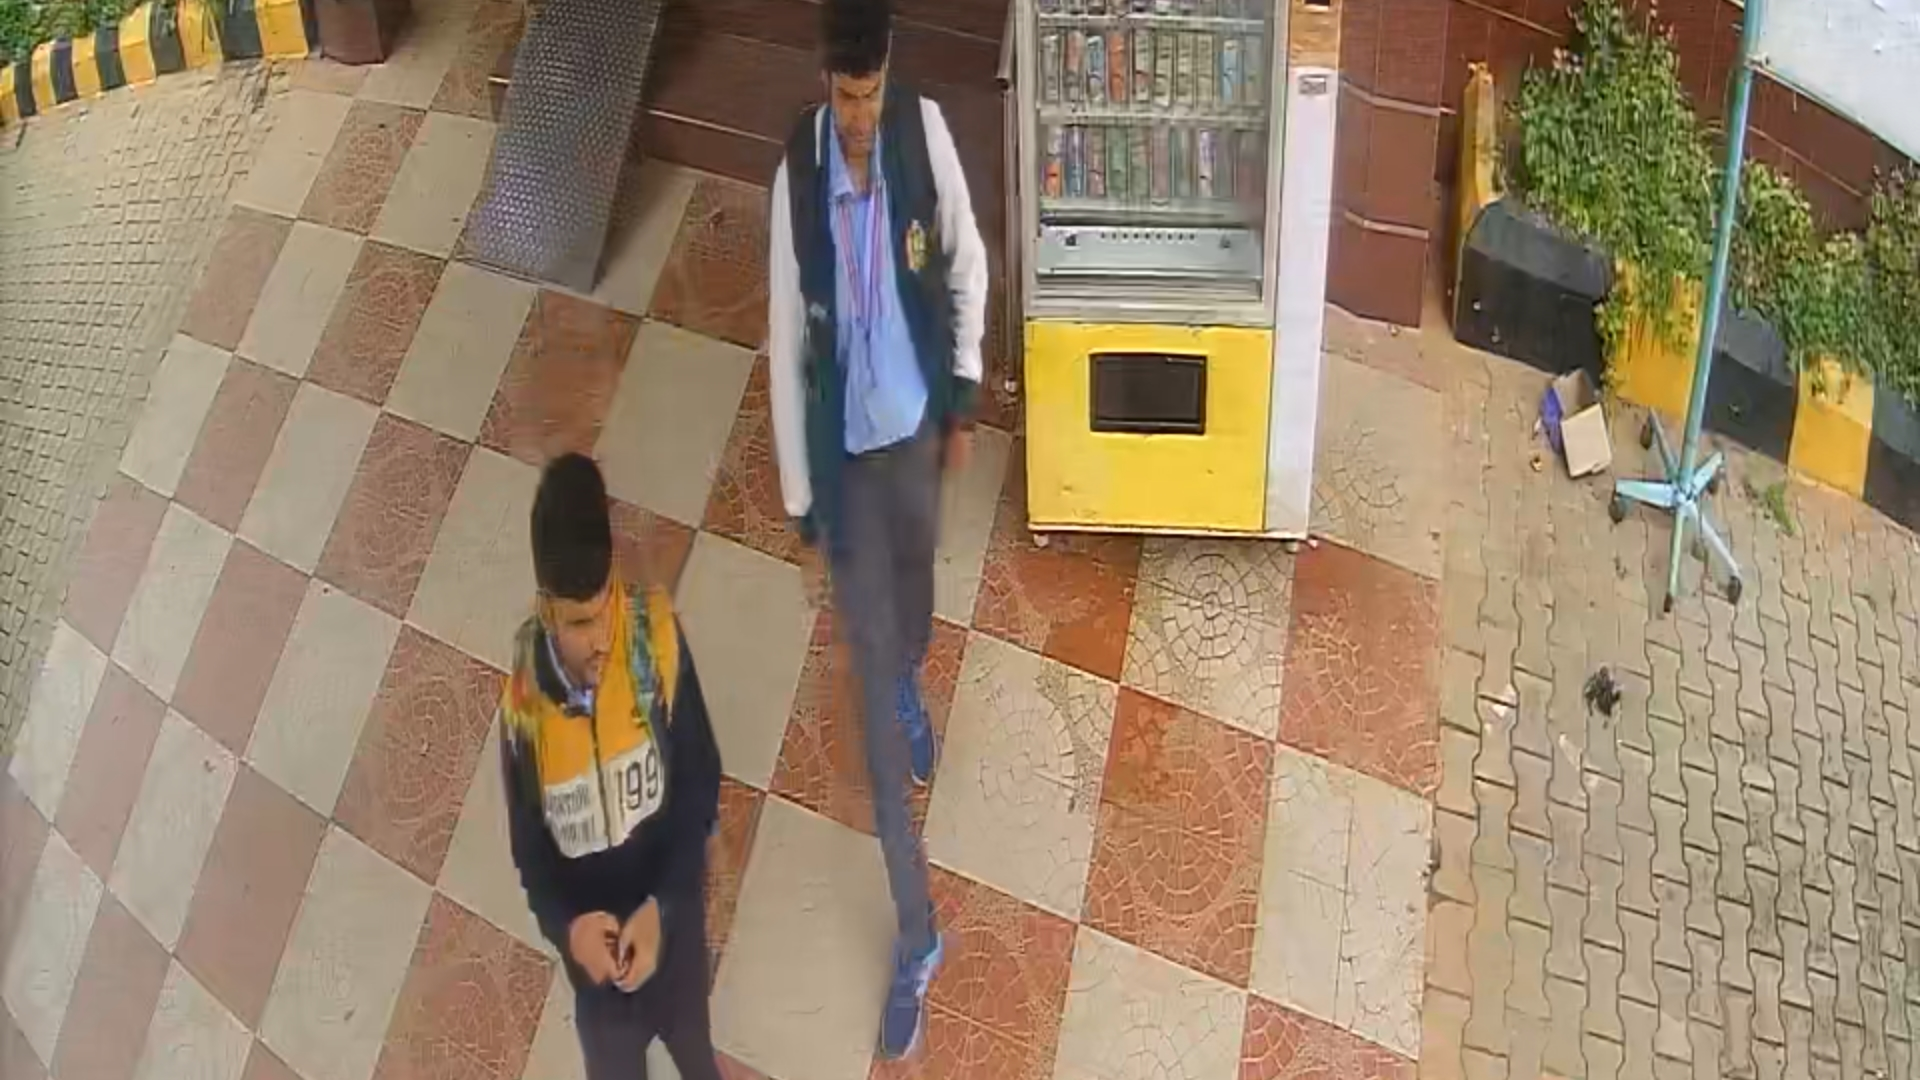intruder: (483, 444, 760, 1080)
not intruder: (787, 3, 1002, 1025)
